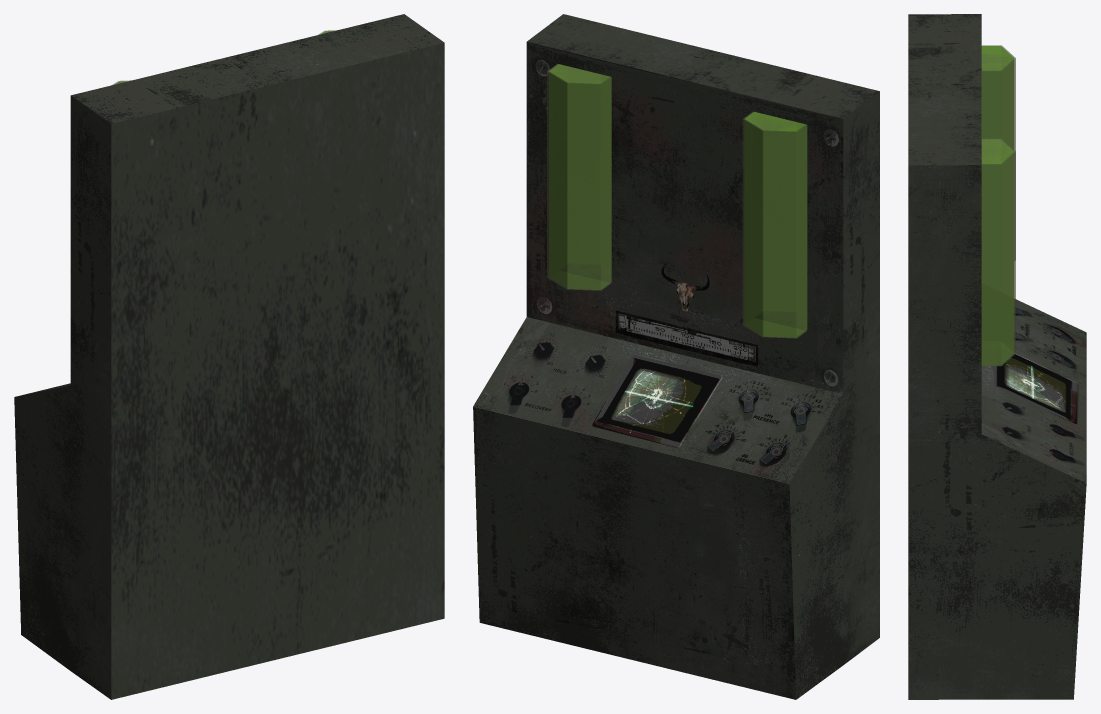
File: DrugMachine.fbx
The picture shows the model from 3 angles, left to right: view 1: azimuth 30°, elevation 25°; view 2: azimuth 150°, elevation 25°; view 3: azimuth 270°, elevation 25°; orthographic projection. The views are drawn at different scales.
Visible parts, largest first — view 1: машина.002; view 2: машина.002, Стекло.002, Стекло.003, Жижа.001, Жижа; view 3: машина.002, Стекло.002, Жижа, Стекло.003, Жижа.001.
Boxes of the visible parts, x1=… form: машина.002: x1=14, y1=14, x2=444, y2=699; машина.002: x1=473, y1=14, x2=879, y2=699; Стекло.002: x1=547, y1=64, x2=611, y2=290; Стекло.003: x1=742, y1=112, x2=806, y2=338; Жижа.001: x1=744, y1=111, x2=807, y2=337; Жижа: x1=549, y1=64, x2=611, y2=289; машина.002: x1=908, y1=14, x2=1086, y2=699; Стекло.002: x1=982, y1=138, x2=1015, y2=366; Жижа: x1=981, y1=139, x2=1014, y2=365; Стекло.003: x1=982, y1=45, x2=1015, y2=260; Жижа.001: x1=981, y1=46, x2=1014, y2=149.
Size of the model in its own units: 201 by 330 by 99.82.
